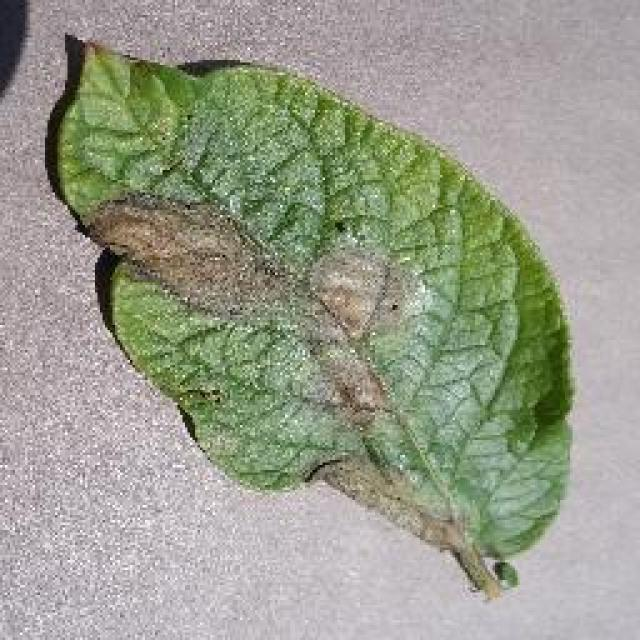late_blight: (42, 30, 578, 600)
